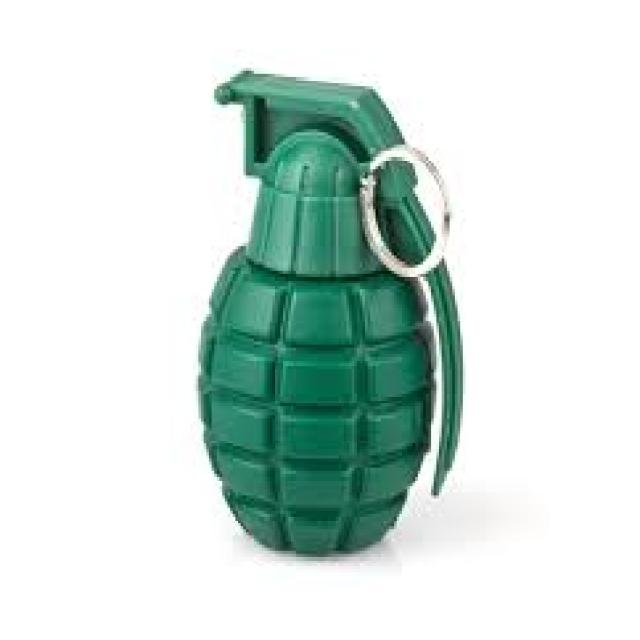grenade: (189, 59, 480, 563)
